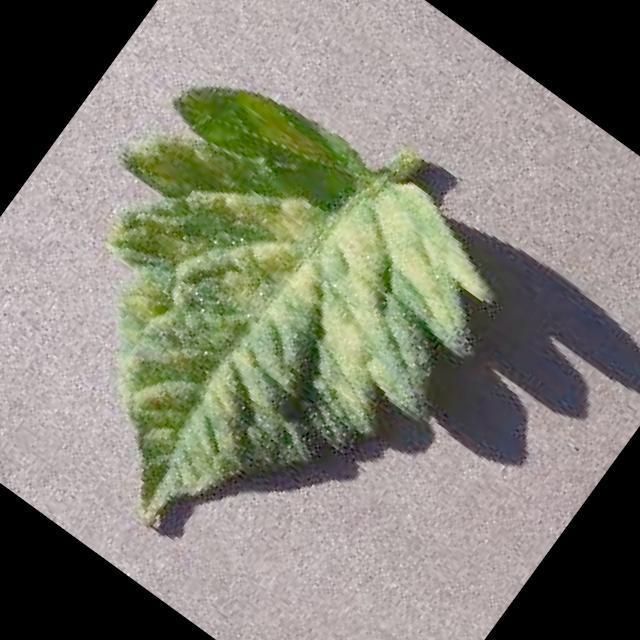Tomato mold leaf: (0, 36, 525, 618)
